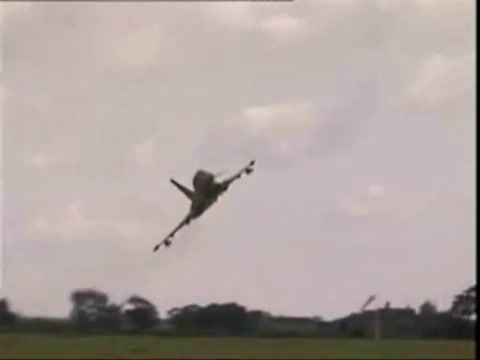aeroplane: (155, 161, 259, 252)
